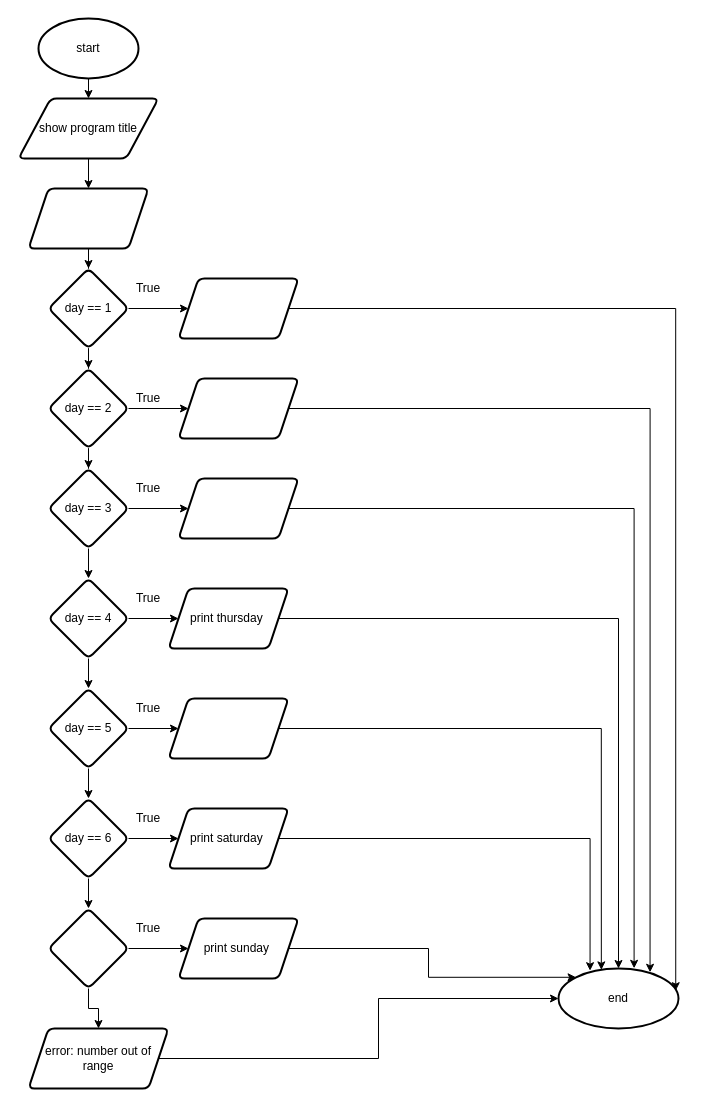
Some shapes in this 701 by 1106 pixel diagram are drawn without their labels. The shapes that lost their labels are listed below. From the top down, each one's centre as x and y in pixels, then its label:
At pixel 88 218: "get day from user".
At pixel 238 308: "print Monday".
At pixel 238 408: "print tuesday".
At pixel 238 508: "print wendsday".
At pixel 228 728: "print friday".
At pixel 88 948: "day == 7".
